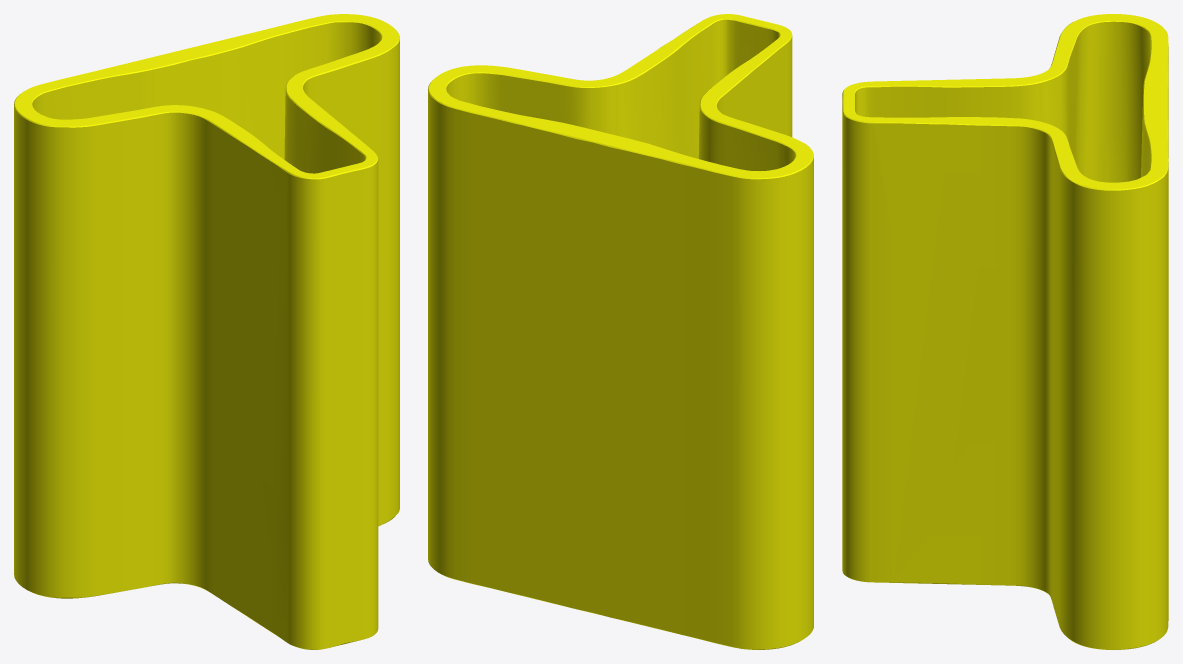
File: designconnected-t-vases-9798.optimized.glb
3 renders of one model, left to right at view 1: azimuth 30°, elevation 25°; view 2: azimuth 150°, elevation 25°; view 3: azimuth 270°, elevation 25°, orthographic. The views are drawn at different scales.
Parts seen in each view (by area): view 1: Ligne_Roset_T_mat1; view 2: Ligne_Roset_T_mat1; view 3: Ligne_Roset_T_mat1.
Boxes of the visible parts, <box> form: Ligne_Roset_T_mat1: <box>14,14,399,649</box>; Ligne_Roset_T_mat1: <box>428,14,813,649</box>; Ligne_Roset_T_mat1: <box>842,14,1168,649</box>.
Size of the model in its own units: 0.1599 by 0.195 by 0.1251.
